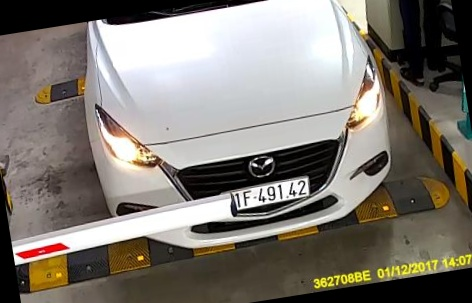plate: (222, 176, 311, 221)
